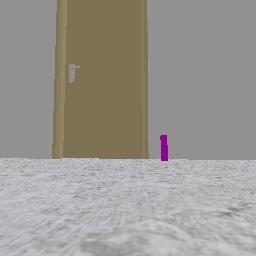mov: (161, 135, 167, 160)
